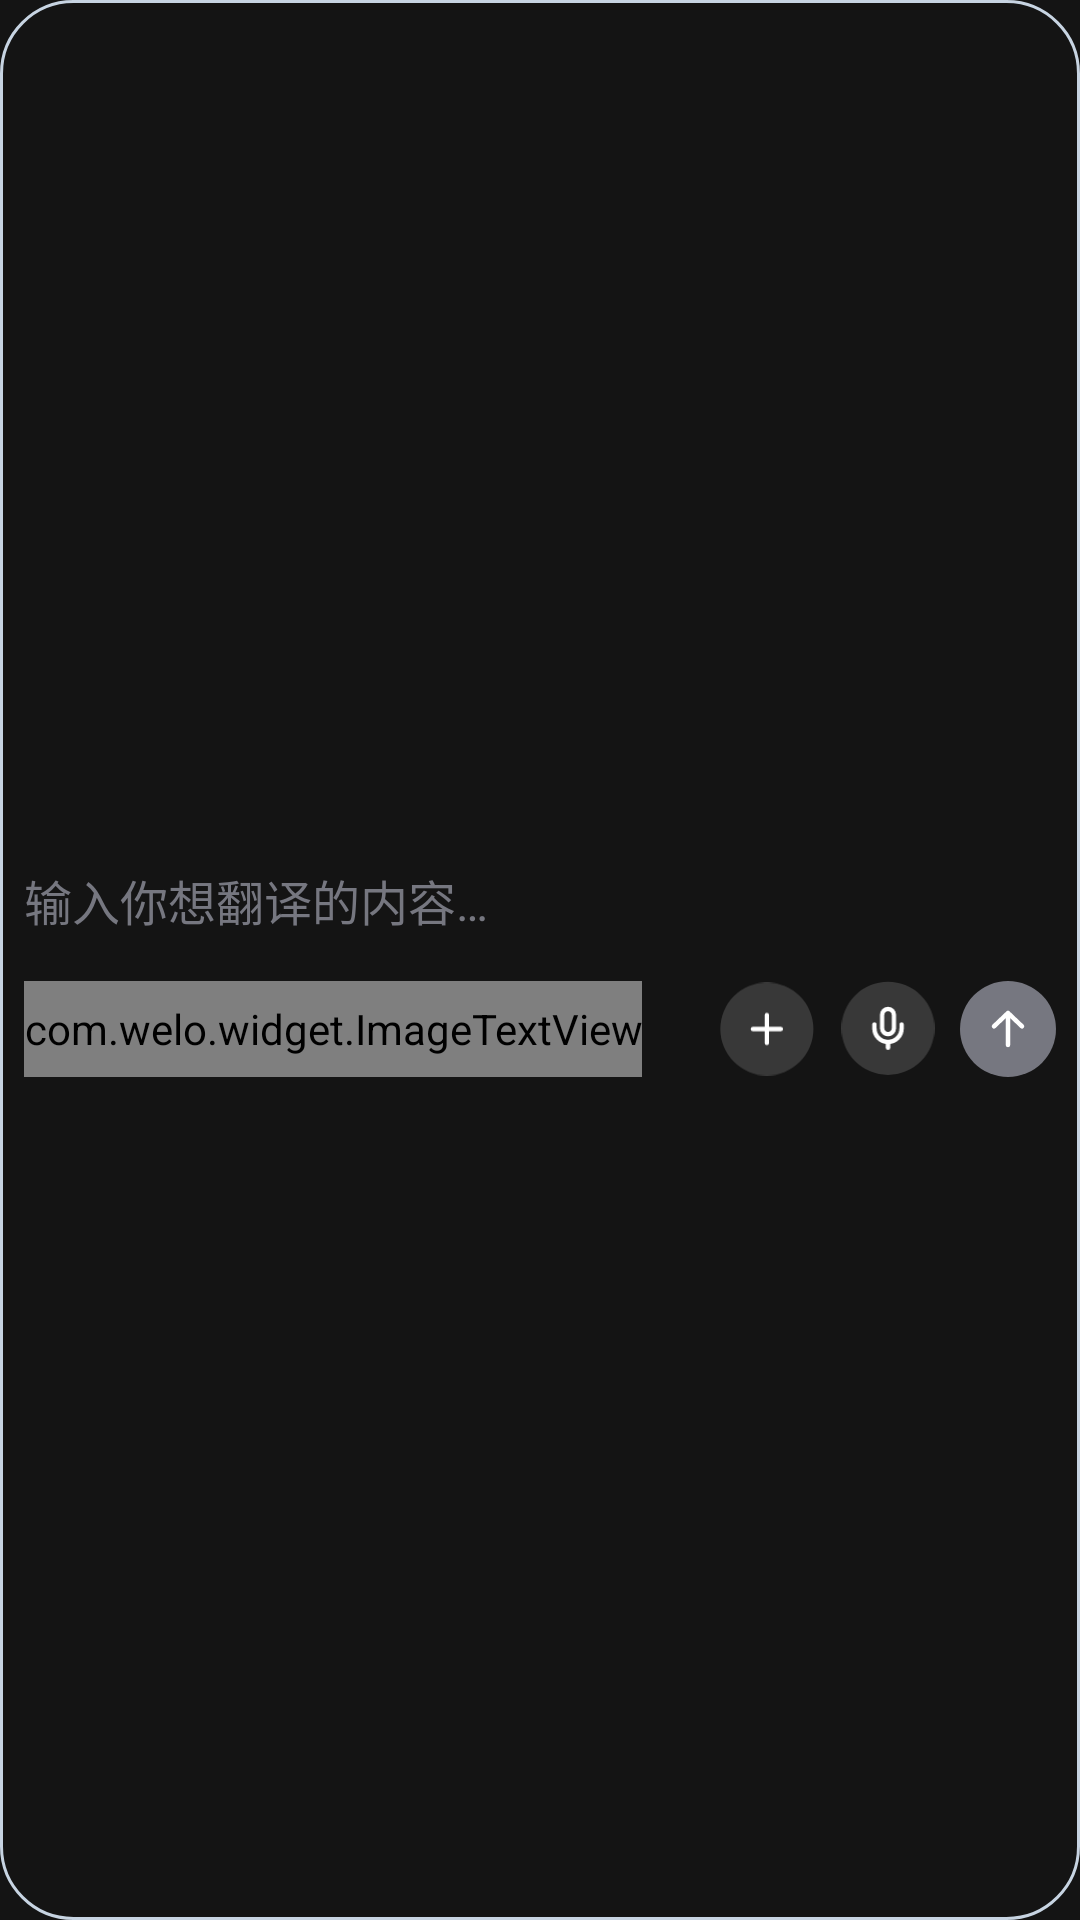

Where to tap for icons on this 1080px x 1920px app screen, as [x,y]:
audio: [888,1028]
plus: [767,1029]
send: [1008,1029]
